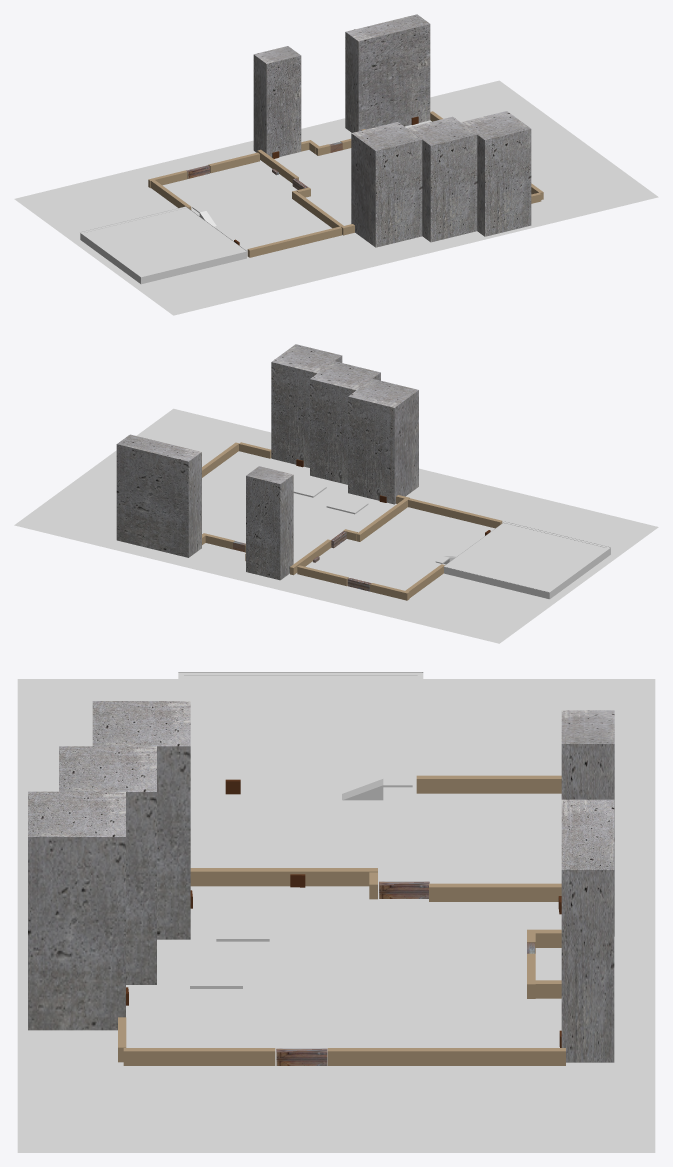
Rendered from flora_square.glb.
3 views of the same model, one above another, from view 1: azimuth 30°, elevation 25°; view 2: azimuth 150°, elevation 25°; view 3: azimuth 270°, elevation 25° (orthographic). The views are drawn at different scales.
Parts seen in each view (by area): view 1: Plane.002, Building 1, Building 4, Building 4.001, Building 4.002, Plane.003, Building 3, Building 3.013, Cube.002, Cube.004, Building 3.006, Building 3.014; view 2: Plane.002, Building 1, Building 4, Plane.003, Building 3, Building 4.002, Building 4.001, Cube.003, Building 3.013, Cube.004, Building 3.006, Building 3.014 (+2 smaller); view 3: Plane.002, Plane.003, Building 4.002, Building 1, Building 4, Building 4.001, Building 3, Building 3.007, Building 3.006, Building 3.015, Building 3.009, Building 3.011 (+5 smaller).
Part boxes in pixels (x1=…): Plane.002: x1=14, y1=80, x2=658, y2=315; Building 1: x1=345, y1=14, x2=430, y2=132; Building 4: x1=351, y1=122, x2=422, y2=247; Building 4.001: x1=406, y1=116, x2=477, y2=242; Building 4.002: x1=461, y1=111, x2=531, y2=236; Plane.003: x1=80, y1=206, x2=246, y2=275; Building 3: x1=253, y1=46, x2=301, y2=157; Building 3.013: x1=247, y1=226, x2=341, y2=257; Cube.002: x1=142, y1=250, x2=246, y2=283; Cube.004: x1=80, y1=232, x2=143, y2=284; Building 3.006: x1=292, y1=190, x2=343, y2=228; Building 3.014: x1=208, y1=152, x2=259, y2=173; Plane.002: x1=14, y1=408, x2=658, y2=643; Building 1: x1=116, y1=434, x2=201, y2=557; Building 4: x1=348, y1=378, x2=418, y2=504; Plane.003: x1=444, y1=521, x2=610, y2=592; Building 3: x1=246, y1=466, x2=293, y2=580; Building 4.002: x1=271, y1=344, x2=342, y2=467; Building 4.001: x1=310, y1=361, x2=380, y2=484; Cube.003: x1=444, y1=565, x2=550, y2=599; Building 3.013: x1=408, y1=498, x2=502, y2=528; Cube.004: x1=549, y1=547, x2=610, y2=598; Building 3.006: x1=356, y1=498, x2=407, y2=541; Building 3.014: x1=297, y1=565, x2=348, y2=586; Plane.002: x1=17, y1=679, x2=655, y2=1152; Plane.003: x1=178, y1=672, x2=423, y2=776; Building 4.002: x1=28, y1=791, x2=125, y2=1030; Building 1: x1=561, y1=799, x2=614, y2=1062; Building 4: x1=92, y1=701, x2=190, y2=939; Building 4.001: x1=59, y1=746, x2=156, y2=984; Building 3: x1=561, y1=710, x2=614, y2=936; Building 3.007: x1=327, y1=1048, x2=565, y2=1065; Building 3.006: x1=190, y1=868, x2=377, y2=886; Building 3.015: x1=416, y1=775, x2=561, y2=793; Building 3.009: x1=123, y1=1048, x2=275, y2=1065; Building 3.011: x1=429, y1=883, x2=561, y2=901.
Size of the model in its own units: 144 by 27.85 by 82.2.
Materials: 27 (4 with a texture image).
